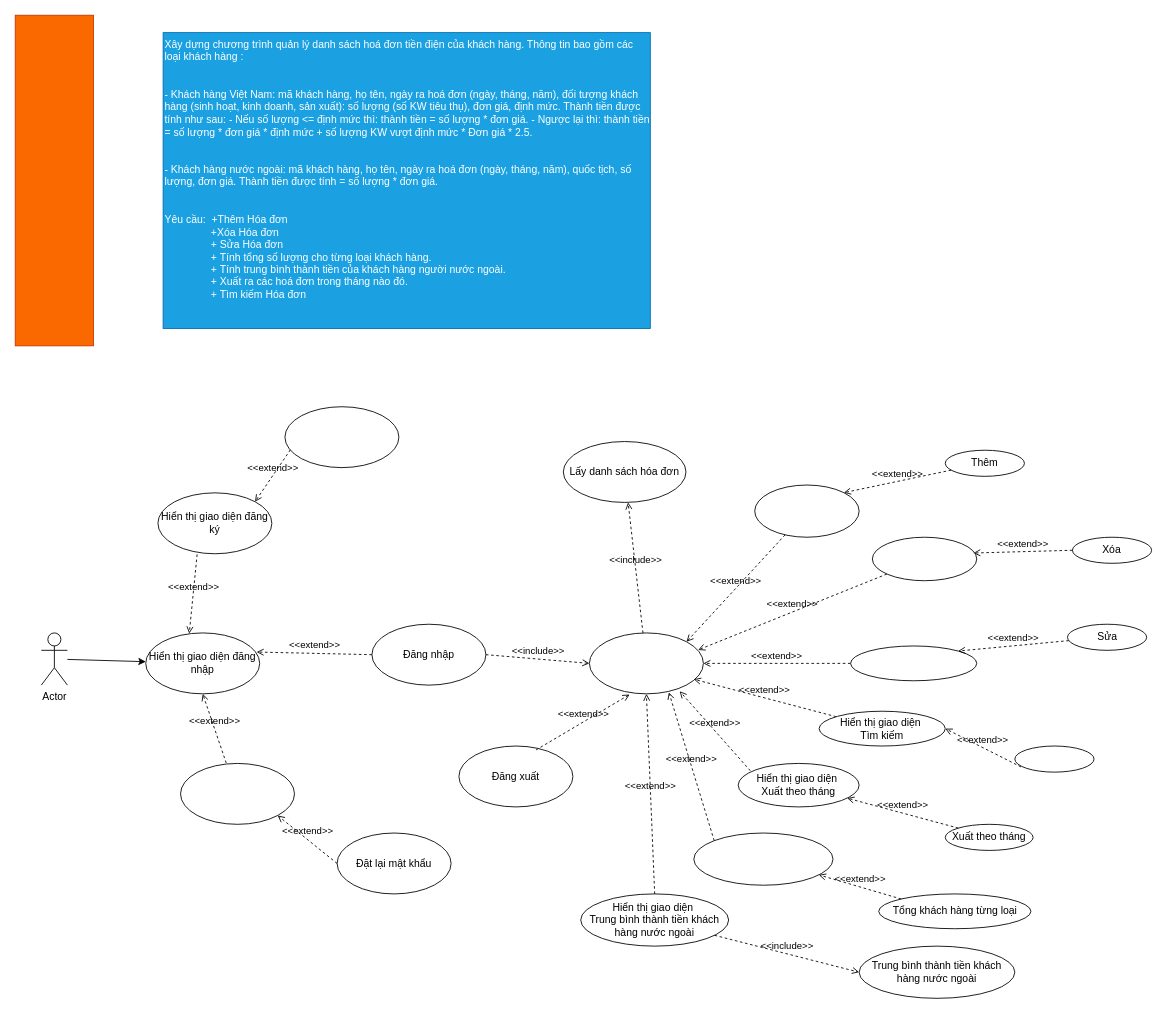
This 1168x1014 diagram has some shape labels left out. Here are the shapes that lost their labels. From the top down, the box of each, then its label:
(14, 14, 94, 346): THU THẬP YÊU CẦU SƠ ĐỒ USE CASE SƠ ĐỒ TRẠNG THÁI SƠ ĐỒ HOẠT ĐỘNG
(284, 406, 399, 468): Đăng ký
(754, 484, 859, 537): Hiển thị giao diện Thêm
(871, 536, 977, 581): Hiển thị giao diện Xóa
(589, 632, 703, 694): Hiển thị giao diện quản lý hóa đơn
(850, 645, 977, 681): Hiển thị giao diện Sửa
(1014, 745, 1094, 772): Tìm kiếm
(180, 763, 294, 824): Hiển thị giao diện quên mật khẩu
(693, 832, 833, 885): Hiển thị giao diện Tổng khách hàng từng loại
